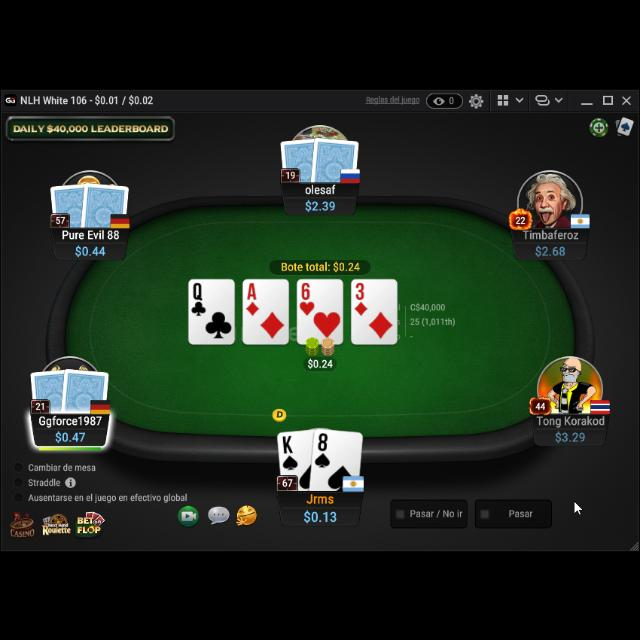3d: (352, 280, 370, 316)
6h: (298, 282, 316, 318)
8s: (313, 431, 333, 469)
Ad: (244, 279, 262, 317)
Ks: (281, 432, 301, 472)
Qc: (191, 280, 207, 318)
bet_text: (306, 356, 334, 368)
card_back: (61, 366, 112, 420), (80, 180, 130, 233), (312, 134, 362, 186), (48, 181, 94, 231), (278, 134, 322, 186), (29, 368, 70, 417)
dealer: (270, 405, 290, 423)
pot_text: (280, 259, 362, 273)
stack_text: (552, 428, 590, 444), (302, 508, 338, 524), (532, 241, 566, 257), (54, 428, 86, 444), (304, 198, 338, 212), (74, 244, 108, 258)
